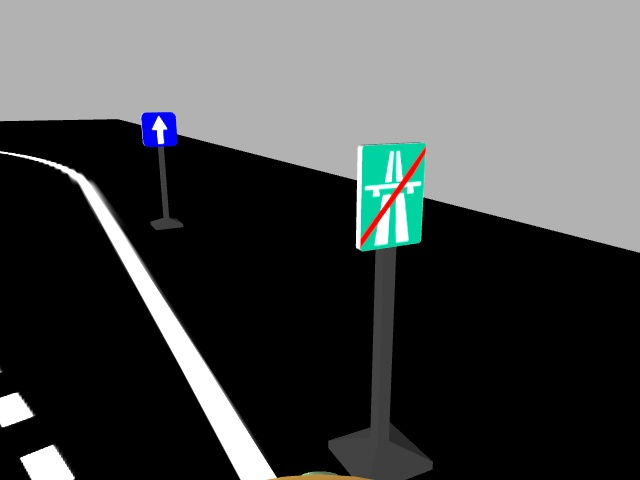HighwayExit: (348, 141, 426, 250)
OneWay: (140, 111, 180, 146)
